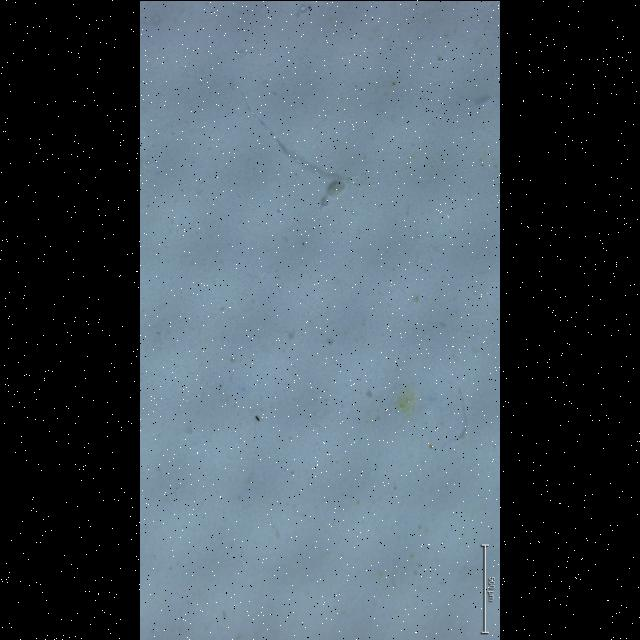Fibre: (258, 118, 359, 180), (452, 387, 468, 439)
Fragment: (327, 180, 345, 196)
